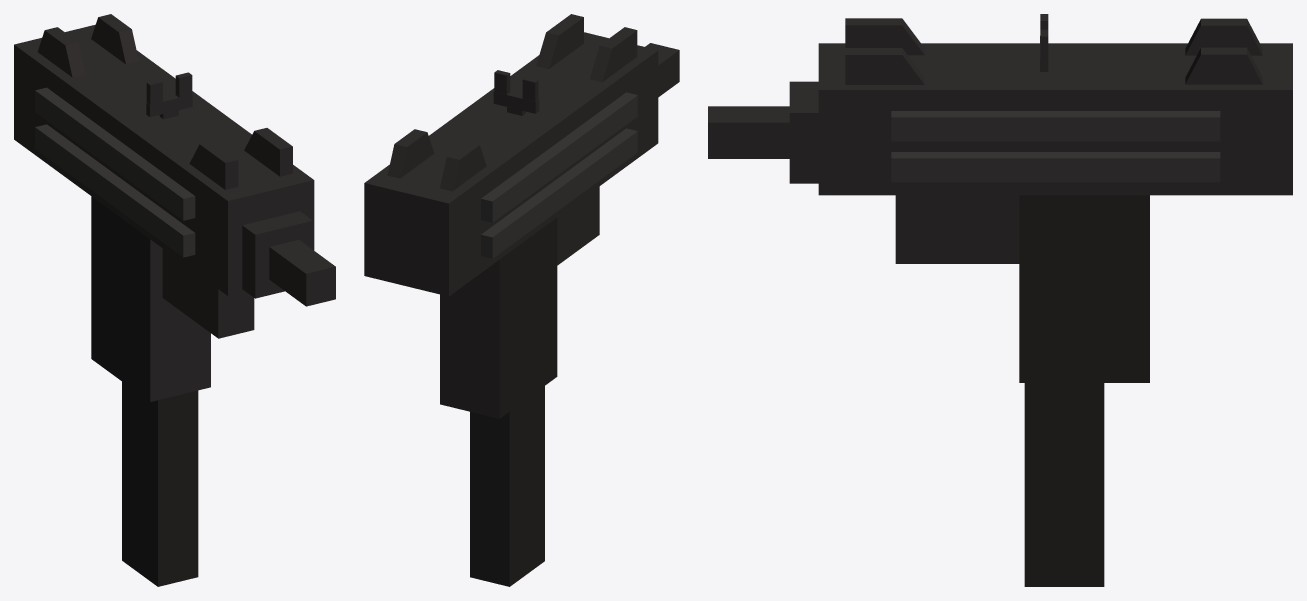
File: MiniSMG.FBX
3 views of the same model, side by side, from view 1: azimuth 30°, elevation 25°; view 2: azimuth 150°, elevation 25°; view 3: azimuth 270°, elevation 25° (orthographic). The views are drawn at different scales.
Parts seen in each view (by area): view 1: MicroSMG, MicroSMG_Mag, MicroSMG_Bolt; view 2: MicroSMG, MicroSMG_Mag, MicroSMG_Bolt; view 3: MicroSMG, MicroSMG_Mag.
Boxes of the visible parts, x1,y1,x2,y2 form: MicroSMG: (14, 14, 335, 401); MicroSMG_Mag: (122, 381, 198, 586); MicroSMG_Bolt: (146, 72, 192, 119); MicroSMG: (364, 14, 679, 418); MicroSMG_Mag: (470, 386, 544, 586); MicroSMG_Bolt: (493, 70, 539, 115); MicroSMG: (708, 18, 1292, 382); MicroSMG_Mag: (1024, 383, 1104, 586).
Bounding box in the file's own units: 14.24 × 59.24 × 61.54.
